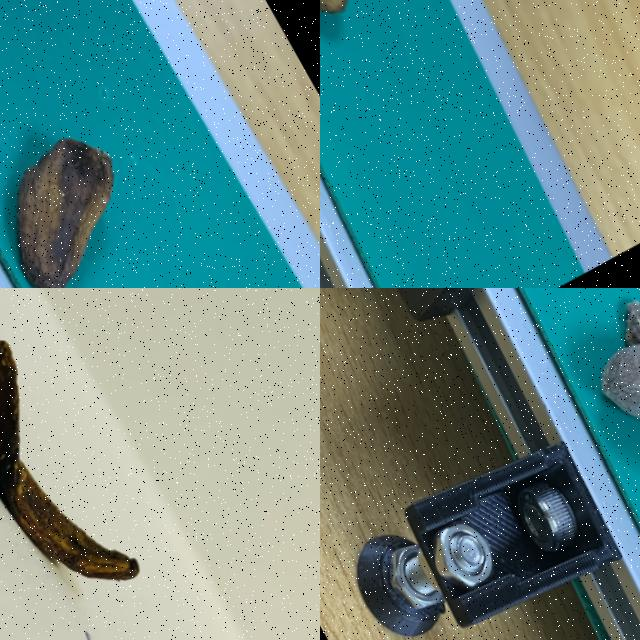Agglomerated_cocoabeans: (487, 288, 639, 539)
Flat_cocoabeans: (0, 288, 219, 639), (0, 54, 225, 287)
